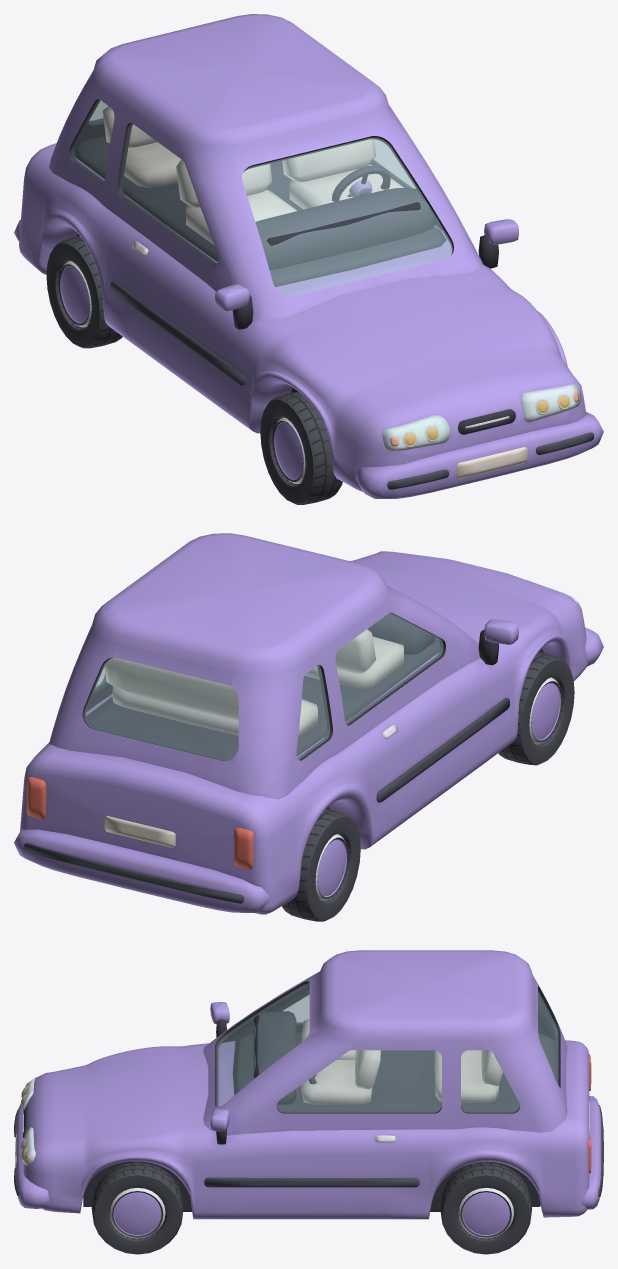
Rendered from 1990s-compact-car.glb.
3 views of the same model, one above another, from view 1: azimuth 30°, elevation 25°; view 2: azimuth 150°, elevation 25°; view 3: azimuth 270°, elevation 25° (orthographic). The views are drawn at different scales.
Visible parts, largest first — view 1: 1990s-compact-car_body, 1990s-compact-car_windows, 1990s-compact-car_wheel_fr, 1990s-compact-car_wheel_rr; view 2: 1990s-compact-car_body, 1990s-compact-car_windows, 1990s-compact-car_wheel_rr, 1990s-compact-car_wheel_fr; view 3: 1990s-compact-car_body, 1990s-compact-car_windows, 1990s-compact-car_wheel_fl, 1990s-compact-car_wheel_rl.
Part boxes in pixels (x1=…): 1990s-compact-car_body: x1=14, y1=14, x2=603, y2=498; 1990s-compact-car_windows: x1=72, y1=99, x2=452, y2=295; 1990s-compact-car_wheel_fr: x1=260, y1=391, x2=342, y2=504; 1990s-compact-car_wheel_rr: x1=46, y1=236, x2=122, y2=348; 1990s-compact-car_body: x1=14, y1=533, x2=603, y2=914; 1990s-compact-car_windows: x1=84, y1=613, x2=442, y2=760; 1990s-compact-car_wheel_rr: x1=282, y1=809, x2=360, y2=921; 1990s-compact-car_wheel_fr: x1=498, y1=652, x2=574, y2=765; 1990s-compact-car_body: x1=14, y1=950, x2=603, y2=1219; 1990s-compact-car_windows: x1=216, y1=983, x2=557, y2=1112; 1990s-compact-car_wheel_fl: x1=91, y1=1162, x2=183, y2=1254; 1990s-compact-car_wheel_rl: x1=440, y1=1162, x2=532, y2=1254.
Size of the model in its own units: 1.78 by 1.53 by 3.72.
6 materials, 2 textured.
